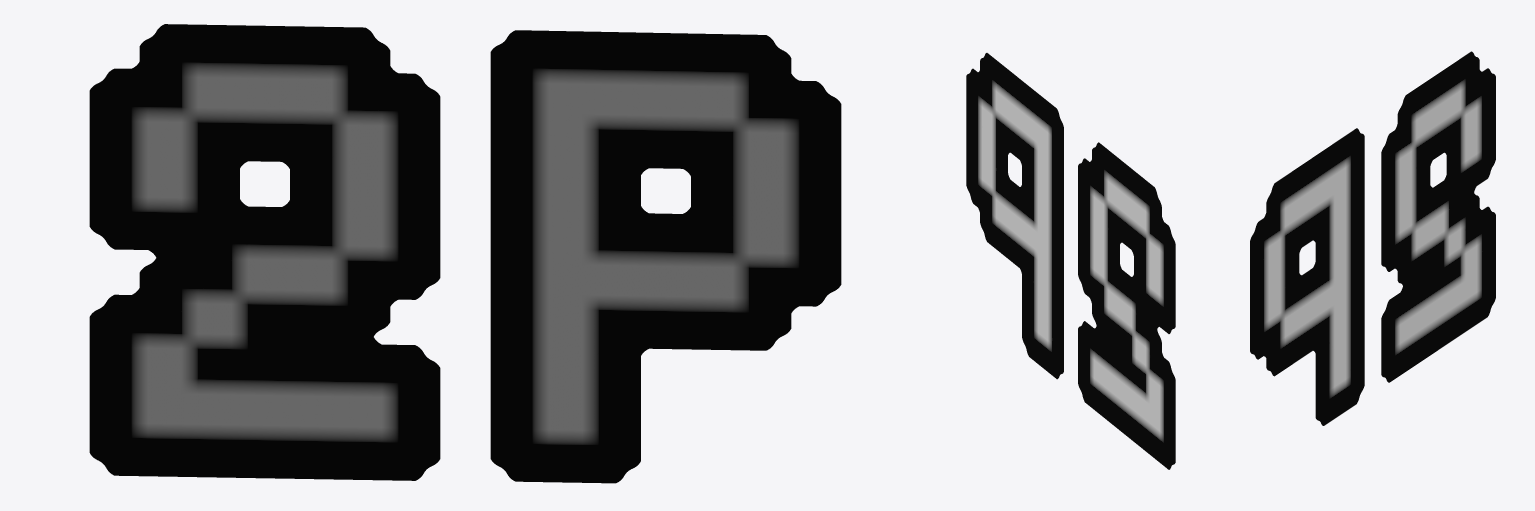
3 views of the same model, side by side, from view 1: azimuth 30°, elevation 25°; view 2: azimuth 150°, elevation 25°; view 3: azimuth 270°, elevation 25° (orthographic). The views are drawn at different scales.
Parts seen in each view (by area): view 1: Joint_0_Object_0; view 2: Joint_0_Object_0; view 3: Joint_0_Object_0.
Part boxes in pixels (x1=…): Joint_0_Object_0: x1=89, y1=24, x2=841, y2=483; Joint_0_Object_0: x1=966, y1=53, x2=1175, y2=469; Joint_0_Object_0: x1=1250, y1=51, x2=1495, y2=425.
Bounding box in the file's own units: 47.33 × 32 × 29.94.
Materials: 1 (1 with a texture image).
